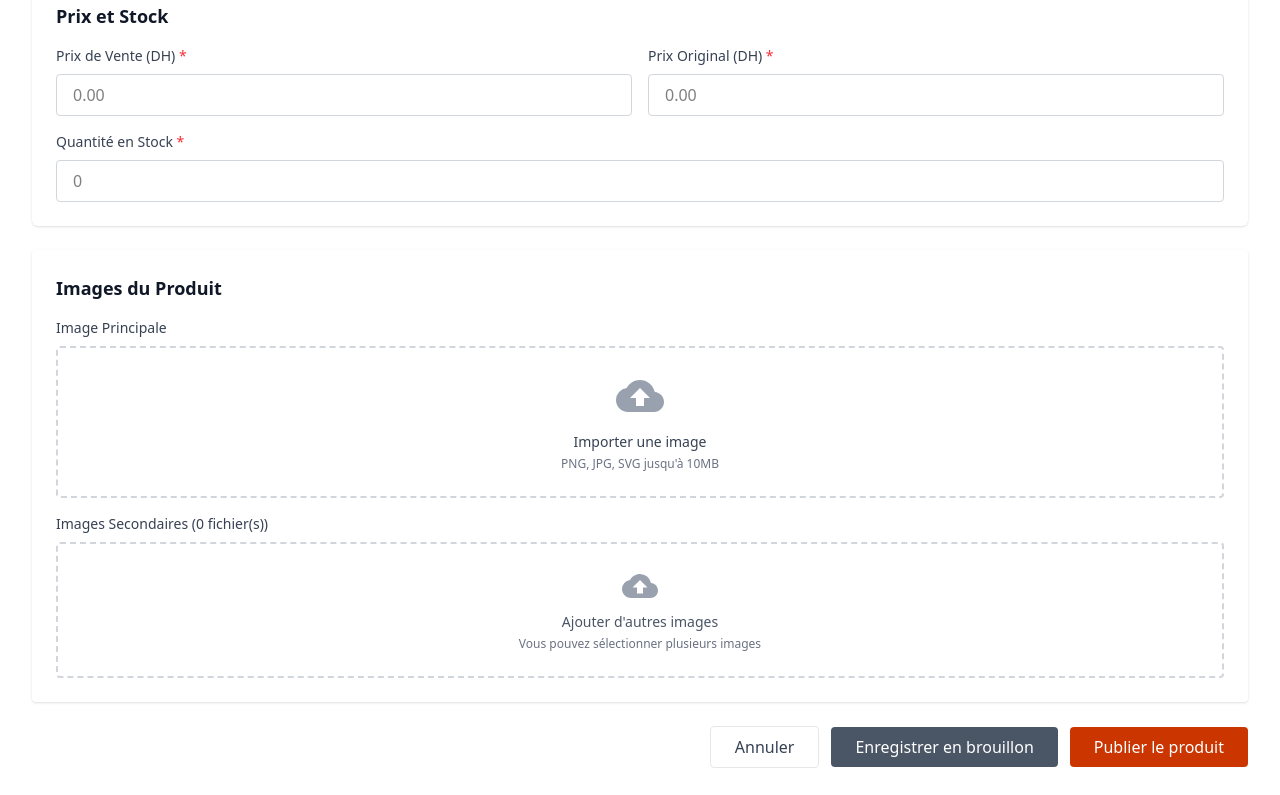
Test: AddProduct Form › Valider les champs formulaire
(page scrolled)
Click the button "Publier le produit" at (1159, 747), box [1070,727,1248,767]
(page scrolled)
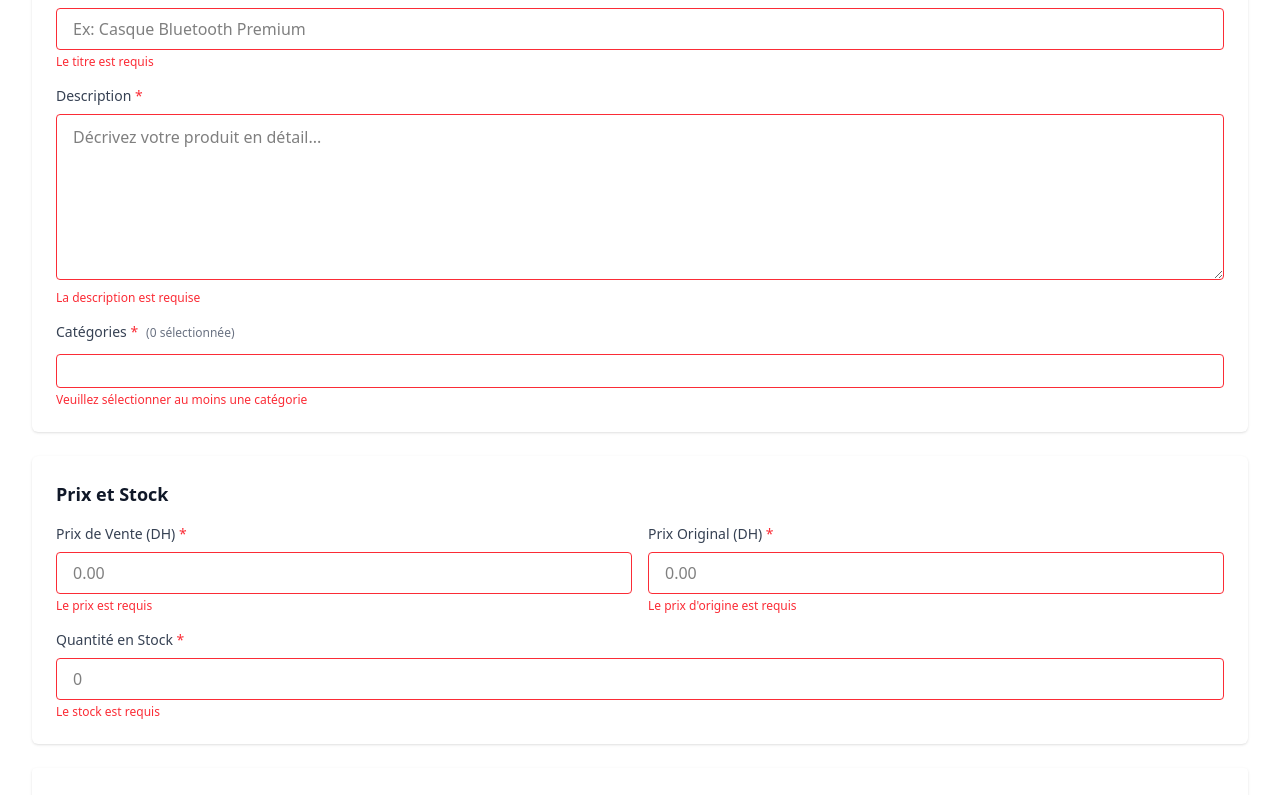
expect the text "Le titre est requis" is shown: met, box [56,53,154,70]
expect the text "La description est requise" is shown: met, box [56,289,200,306]
expect the text "Le prix est requis" is shown: met, box [56,597,152,614]
